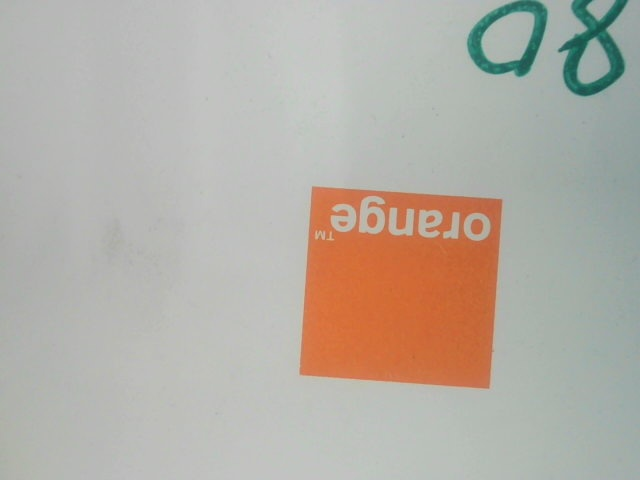AR_Orange: (262, 167, 513, 397)
